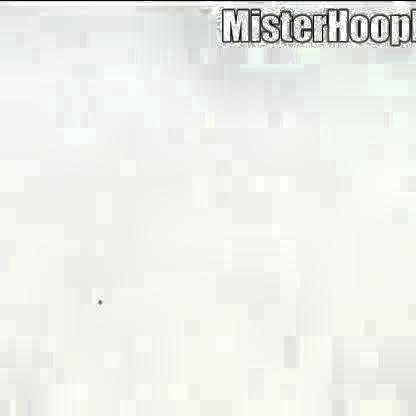golfball: (95, 295, 102, 302)
